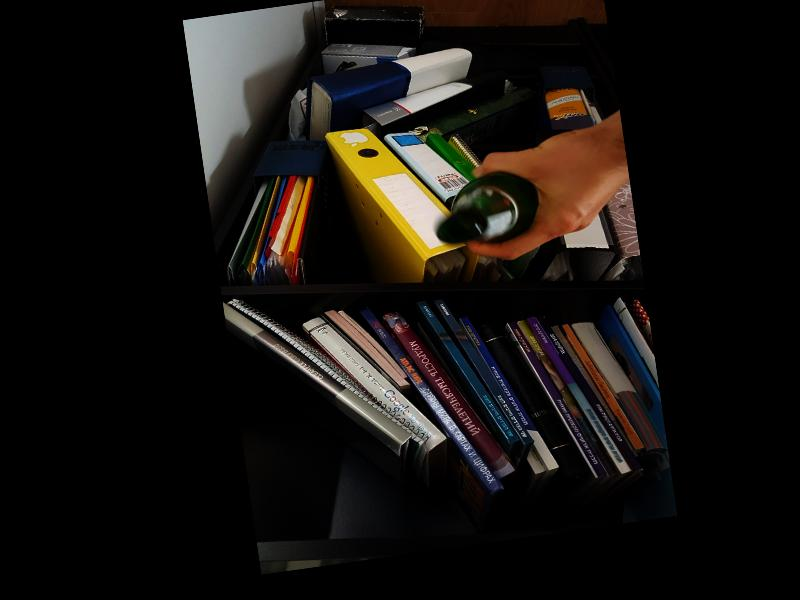Beer: (430, 167, 543, 249)
